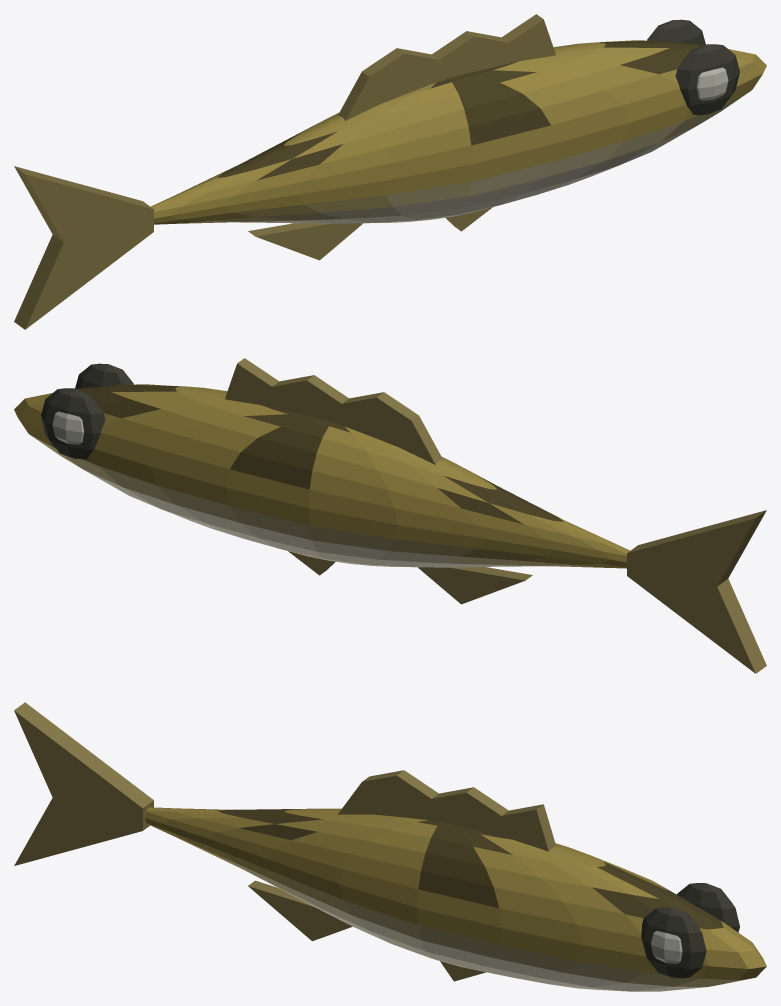
The model's file is Walleye.glb.
The picture shows the model from 3 angles, top to bottom: view 1: azimuth 30°, elevation 25°; view 2: azimuth 150°, elevation 25°; view 3: azimuth 330°, elevation 25°; orthographic projection.
Visible parts, largest first — view 1: Walleye; view 2: Walleye; view 3: Walleye.
Boxes of the visible parts, left/top/right/bottom form: Walleye: left=14, top=14, right=766, bottom=329; Walleye: left=14, top=358, right=766, bottom=673; Walleye: left=14, top=702, right=766, bottom=991.
Size of the model in its own units: 5.07 by 1.25 by 0.6462.
